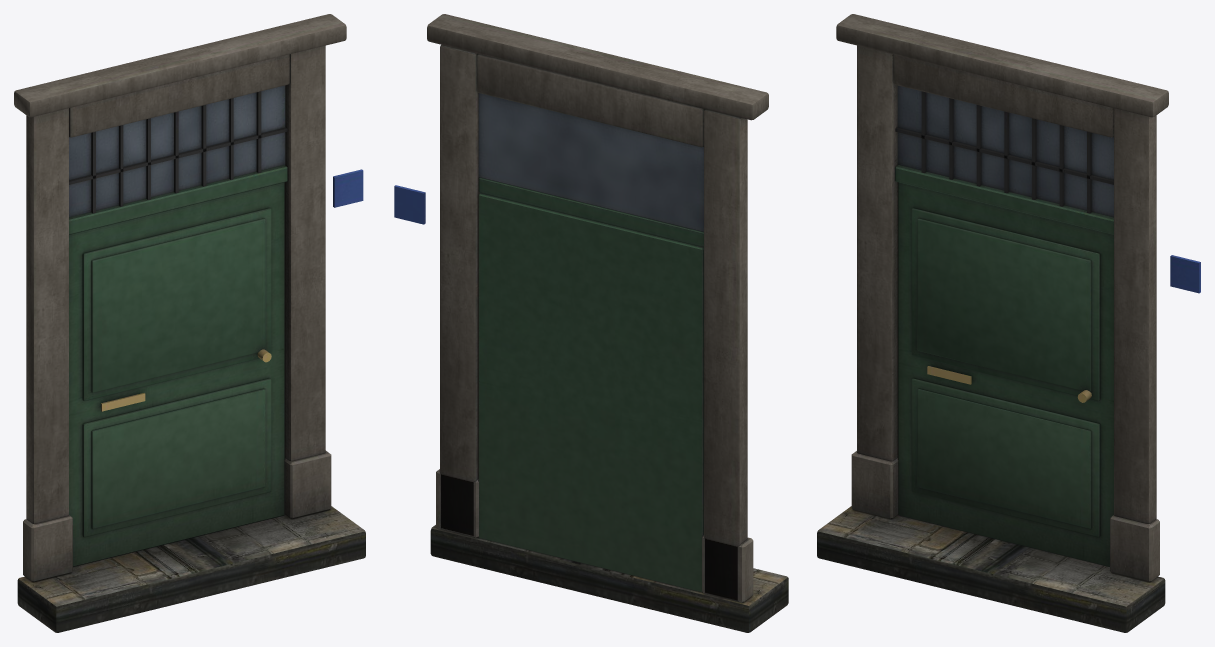
Rendered from door_town_green.glb.
The picture shows the model from 3 angles, left to right: view 1: azimuth 30°, elevation 25°; view 2: azimuth 150°, elevation 25°; view 3: azimuth 330°, elevation 25°; orthographic projection. The views are drawn at different scales.
Parts seen in each view (by area): view 1: door_town_green; view 2: door_town_green; view 3: door_town_green.
Boxes of the visible parts, left/top/right/bottom form: door_town_green: left=14, top=14, right=365, bottom=632; door_town_green: left=394, top=14, right=788, bottom=632; door_town_green: left=817, top=14, right=1200, bottom=632.
Size of the model in its own units: 1.93 by 2.73 by 0.38.
Materials: 1 (1 with a texture image).
